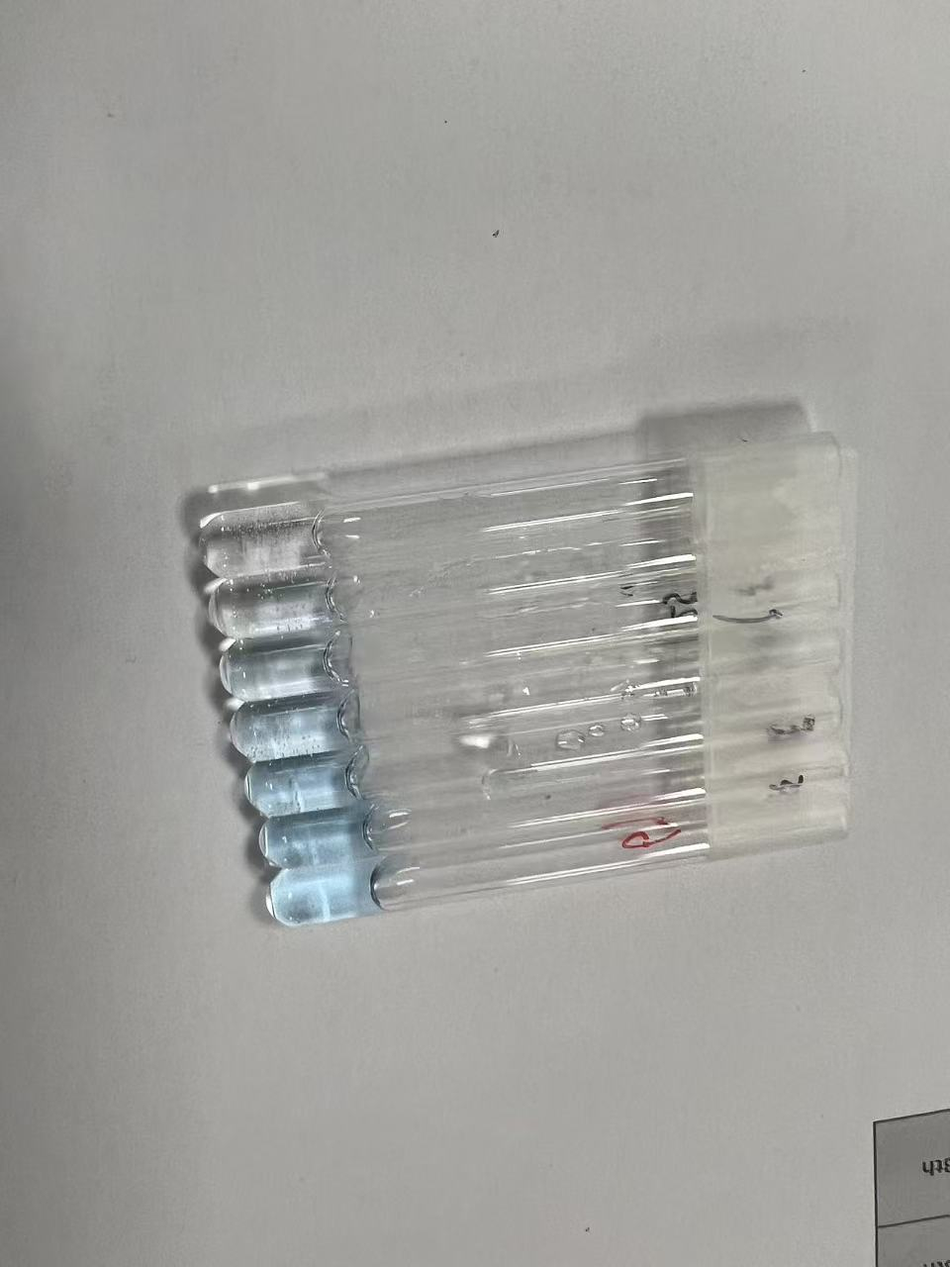drop: (200, 500, 341, 581), (207, 568, 357, 643), (219, 629, 349, 710), (265, 856, 392, 931), (229, 699, 369, 767), (245, 754, 380, 822), (259, 804, 389, 873)
